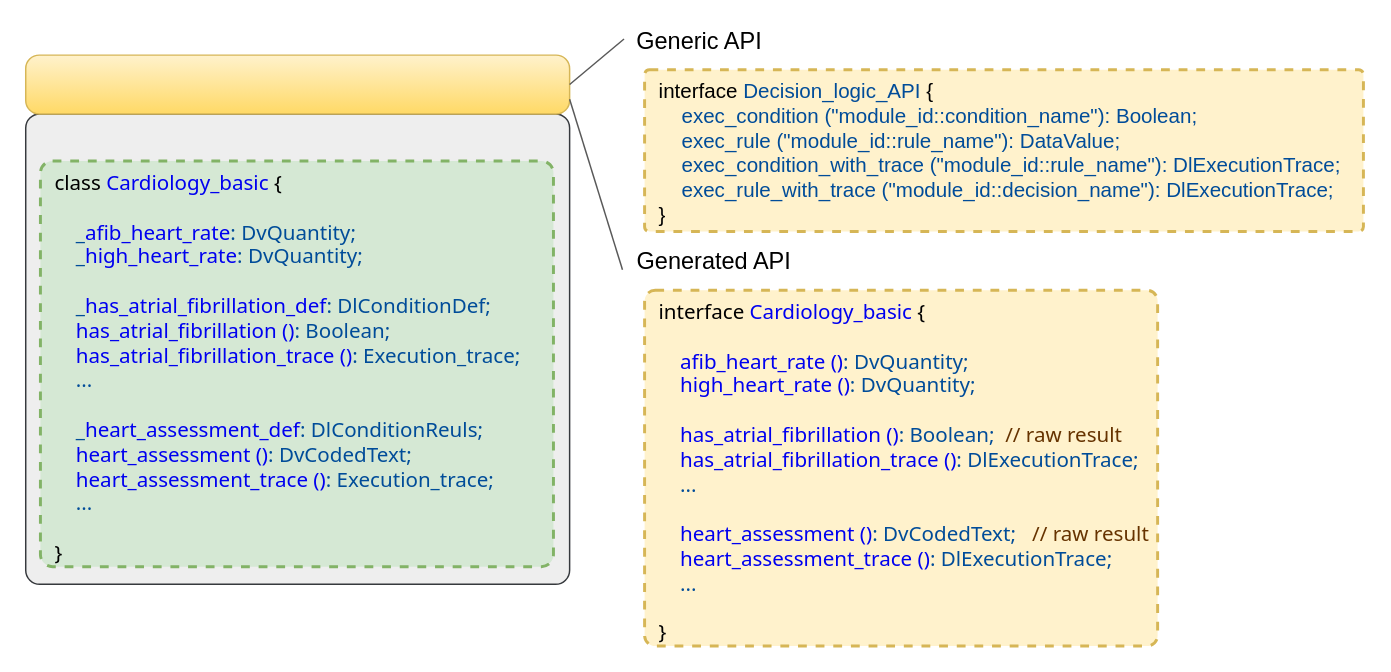
The diagram is 1391 pixels wide and 672 high, and some of its shapes have lost their labels. Each missing label, with the box of its shape:
decision logic API: (24, 54, 570, 114)
Execution container: (24, 112, 570, 584)
